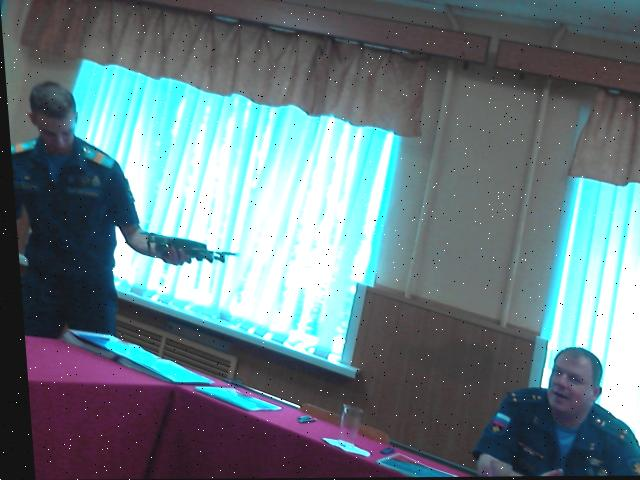drone: (133, 218, 240, 268)
